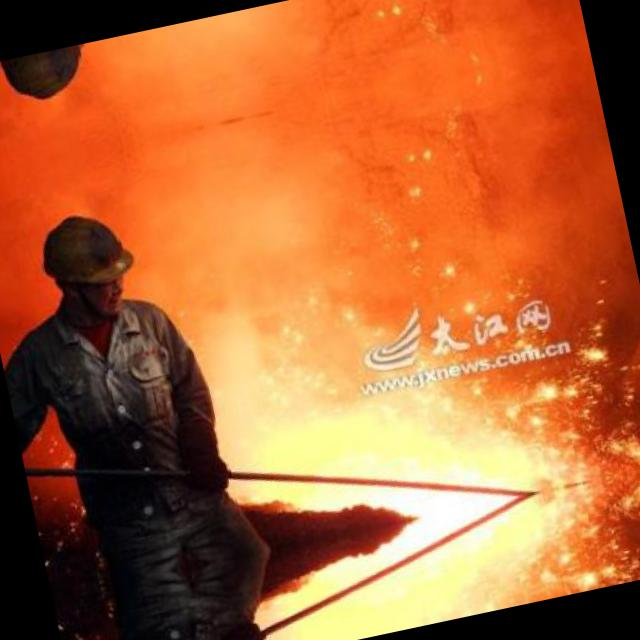helmet: (26, 196, 146, 329), (0, 42, 102, 117)
